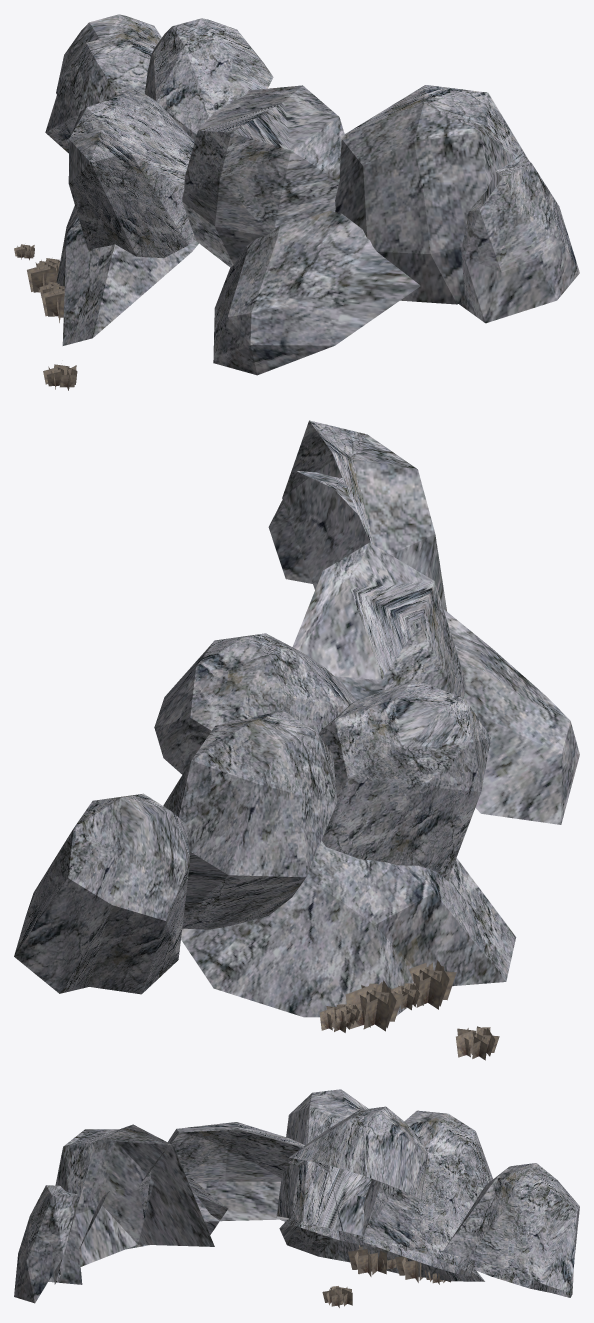
The model's file is des_rockgp2_13.obj.
The picture shows the model from 3 angles, top to bottom: view 1: azimuth 30°, elevation 25°; view 2: azimuth 150°, elevation 25°; view 3: azimuth 270°, elevation 25°; orthographic projection. The views are drawn at different scales.
Parts seen in each view (by area): view 1: des_rockgp2_13; view 2: des_rockgp2_13; view 3: des_rockgp2_13.
Boxes of the visible parts, bbox=[...] form: des_rockgp2_13: bbox=[14, 14, 579, 390]; des_rockgp2_13: bbox=[14, 420, 579, 1060]; des_rockgp2_13: bbox=[14, 1089, 579, 1307].
Bounding box in the file's own units: 50.29 × 45.63 × 84.5.
Materials: 3 (3 with a texture image).
